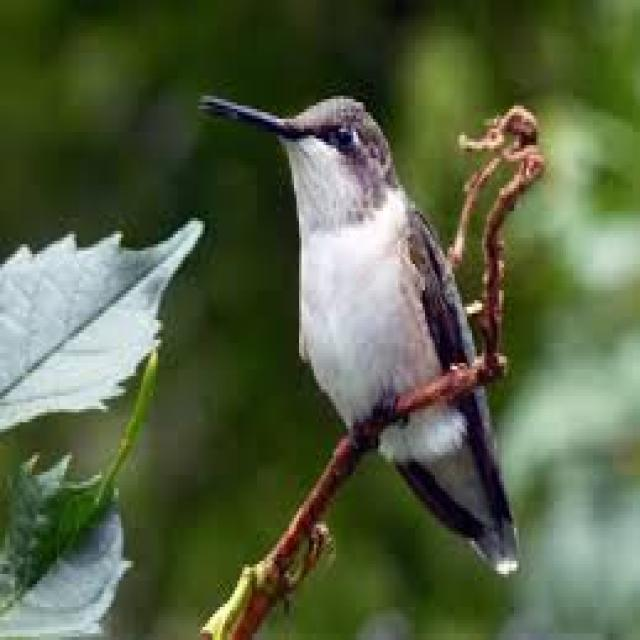Humming Bird: (193, 78, 527, 582)
